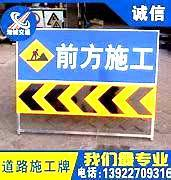sign: (17, 28, 158, 118)
